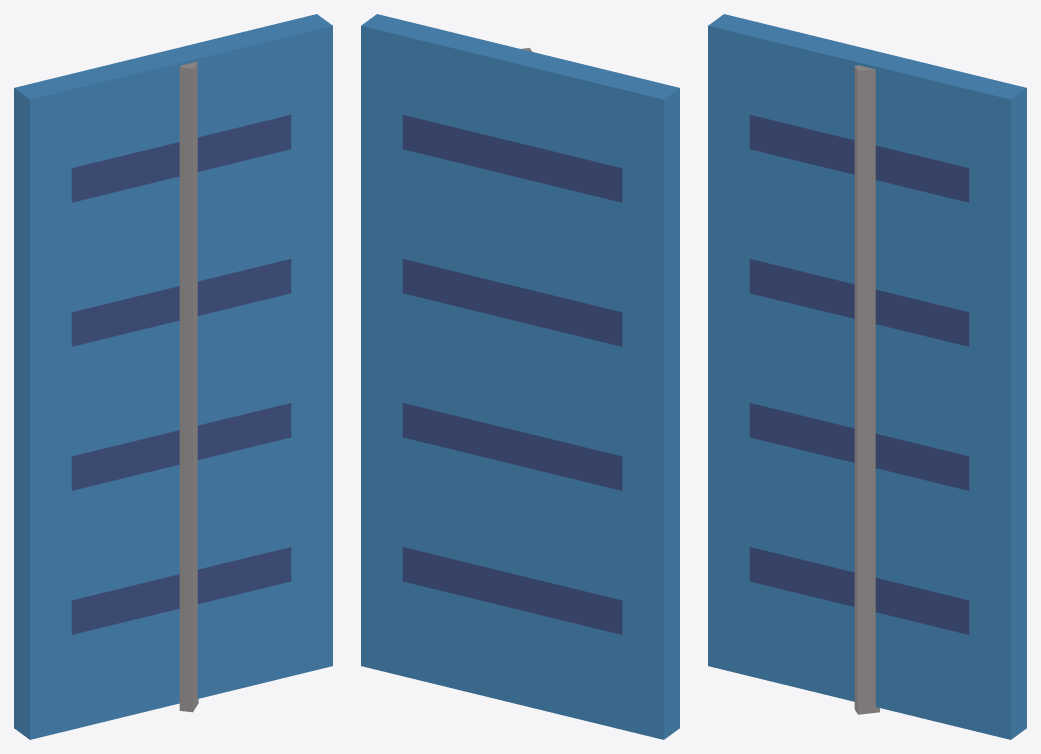
The model's file is cargo-shipping-door_R_blue.glb.
The picture shows the model from 3 angles, left to right: view 1: azimuth 30°, elevation 25°; view 2: azimuth 150°, elevation 25°; view 3: azimuth 330°, elevation 25°; orthographic projection.
Parts seen in each view (by area): view 1: cargo-shipping-door_R_blue; view 2: cargo-shipping-door_R_blue; view 3: cargo-shipping-door_R_blue.
Boxes of the visible parts, x1,y1,x2,y2 form: cargo-shipping-door_R_blue: (14, 14, 332, 739); cargo-shipping-door_R_blue: (361, 14, 679, 739); cargo-shipping-door_R_blue: (708, 14, 1026, 739).
Size of the model in its own units: 1.09 by 2.22 by 0.1398.
1 material, 1 textured.
